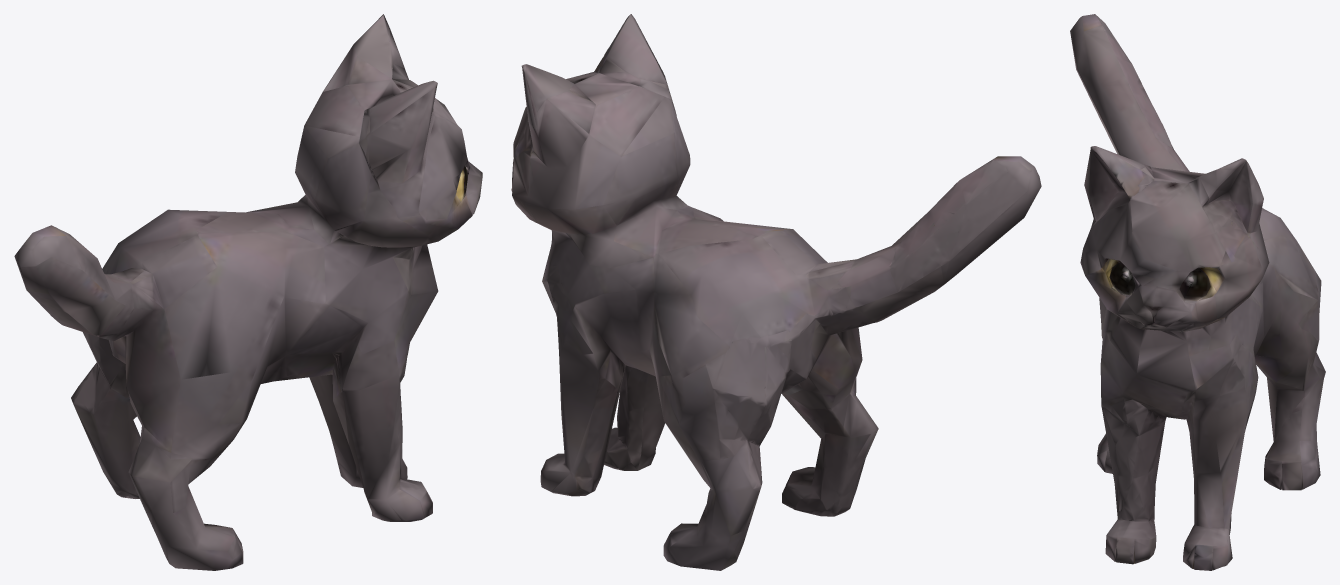
File: SNUGPAW-lo.glb
The picture shows the model from 3 angles, left to right: view 1: azimuth 30°, elevation 25°; view 2: azimuth 150°, elevation 25°; view 3: azimuth 270°, elevation 25°; orthographic projection. The views are drawn at different scales.
Visible parts, largest first — view 1: material; view 2: material; view 3: material.
Boxes of the visible parts, bbox=[...] form: material: bbox=[14, 14, 482, 570]; material: bbox=[511, 14, 1041, 570]; material: bbox=[1070, 14, 1325, 570].
Size of the model in its own units: 1.18 by 0.9999 by 0.5618.
Materials: 1 (1 with a texture image).
